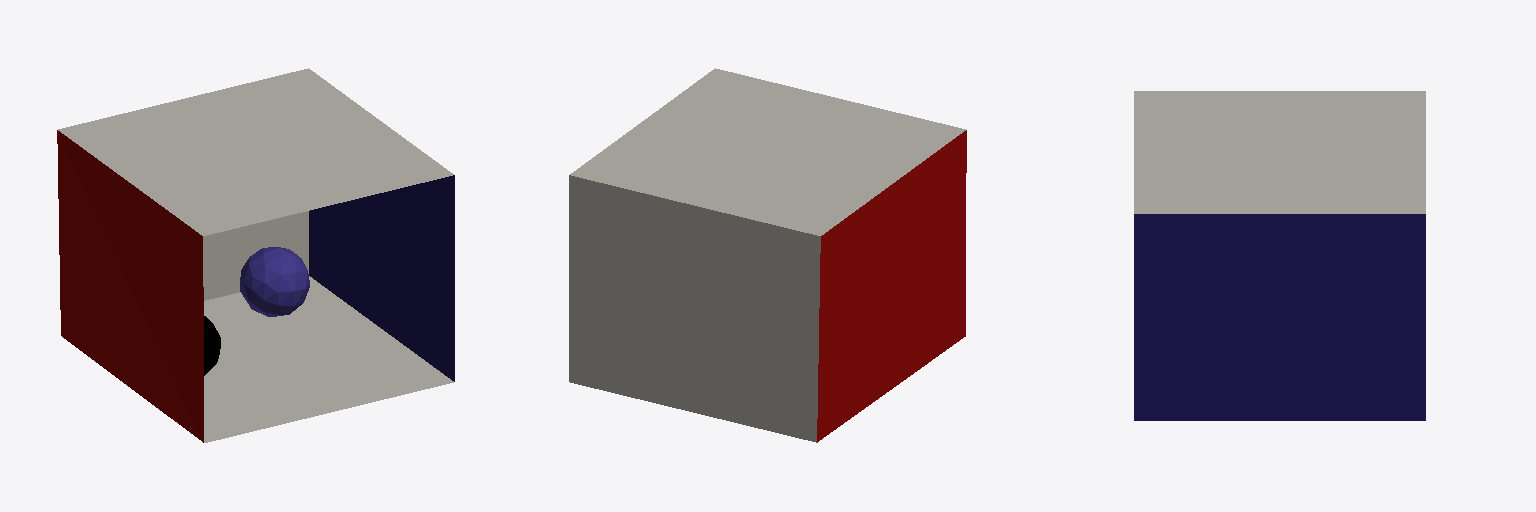
The model's file is CornellBox-Sphere-498.obj.
3 renders of one model, left to right at view 1: azimuth 30°, elevation 25°; view 2: azimuth 150°, elevation 25°; view 3: azimuth 270°, elevation 25°, orthographic.
Visible parts, largest first — view 1: ceiling, leftWall, floor, rightWall, backWall, leftSphere, rightSphere; view 2: backWall, ceiling, leftWall; view 3: rightWall, ceiling.
Boxes of the visible parts, box(x1,y1,x2,y2) form: ceiling: box(58, 68, 453, 235); leftWall: box(57, 130, 203, 442); floor: box(204, 276, 453, 442); rightWall: box(309, 175, 454, 381); backWall: box(203, 211, 308, 300); leftSphere: box(240, 247, 309, 316); rightSphere: box(204, 316, 220, 375); backWall: box(569, 175, 820, 442); ceiling: box(570, 68, 965, 235); leftWall: box(817, 130, 966, 442); rightWall: box(1134, 214, 1425, 420); ceiling: box(1134, 91, 1425, 213).
Size of the model in its own units: 2.02 by 1.59 by 2.03.